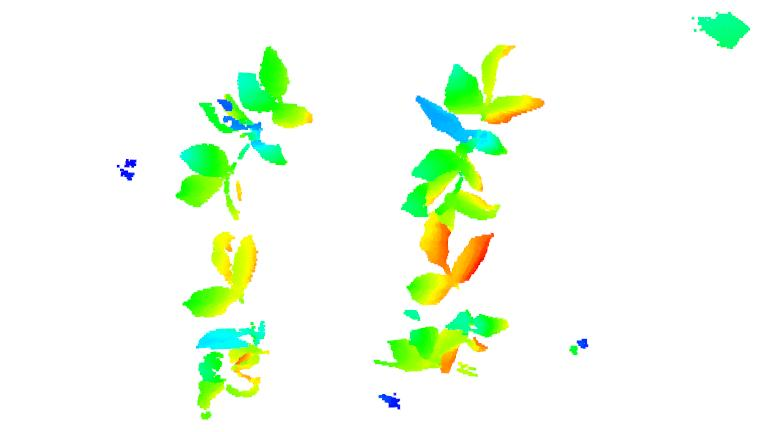mungbean: (398, 42, 549, 230), (169, 45, 318, 219), (371, 216, 515, 379), (177, 229, 276, 414)
